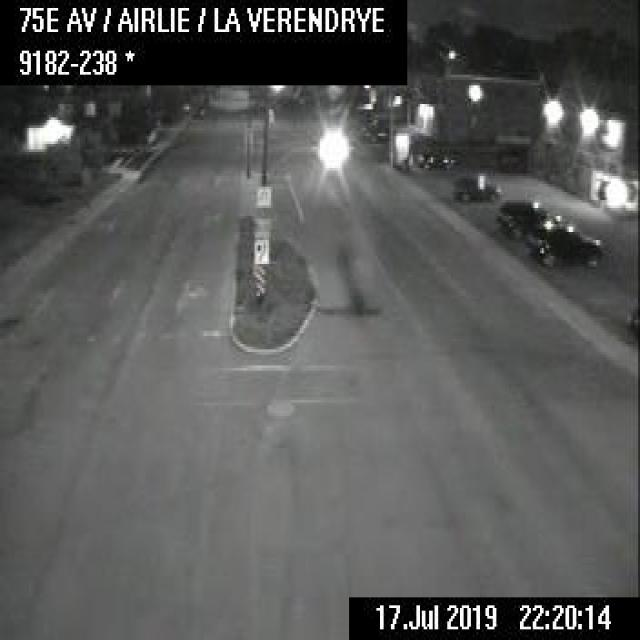vehicle: (529, 214, 605, 269), (496, 197, 548, 239), (452, 172, 502, 204), (417, 145, 456, 169)
